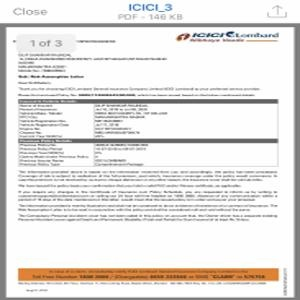image: (173, 31, 281, 45)
table: (14, 98, 276, 138), (16, 138, 278, 167)
text: (18, 170, 281, 221), (18, 53, 259, 100)
